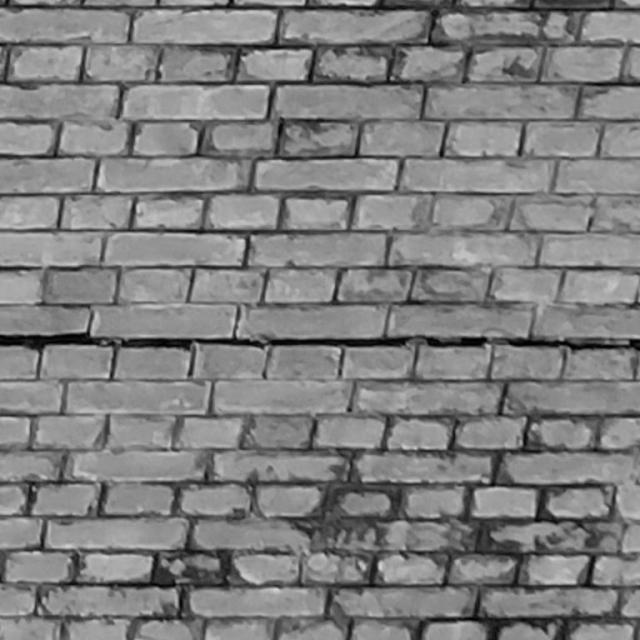crack: (1, 332, 640, 352)
